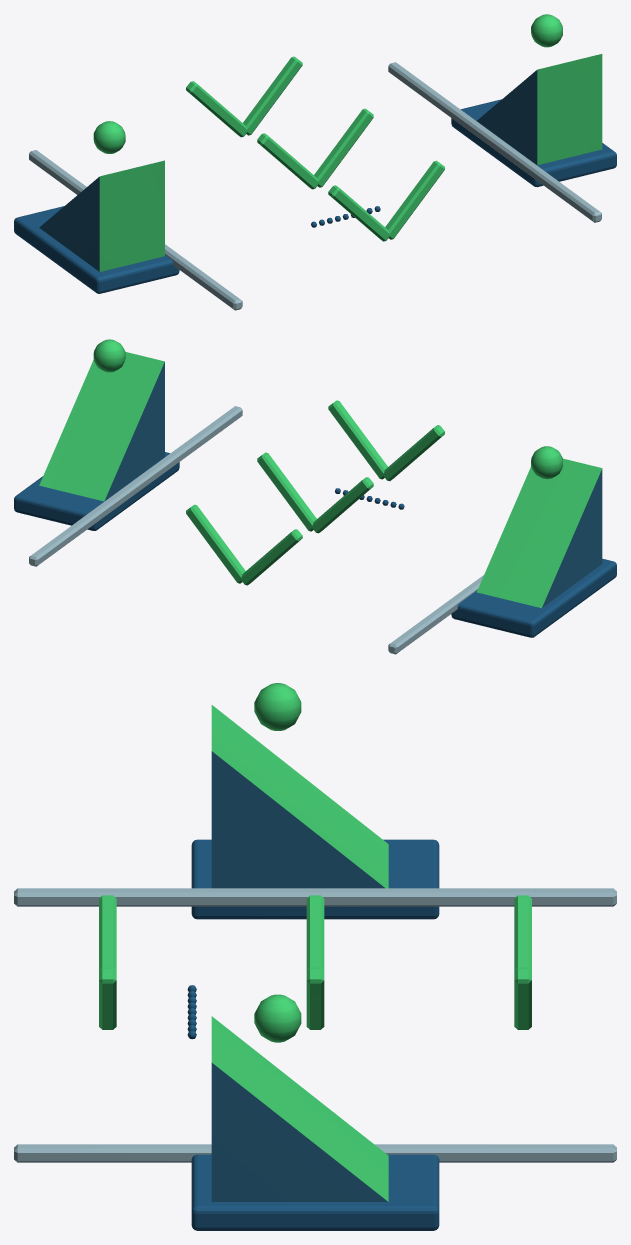
Rendered from glacier_boost_marker_v1.glb.
3 renders of one model, top to bottom at view 1: azimuth 30°, elevation 25°; view 2: azimuth 150°, elevation 25°; view 3: azimuth 270°, elevation 25°, orthographic. The views are drawn at different scales.
Parts seen in each view (by area): view 1: glacier_boost_marker_v1; view 2: glacier_boost_marker_v1; view 3: glacier_boost_marker_v1.
Part boxes in pixels (x1,y1,x2,y2): glacier_boost_marker_v1: (14, 14, 616, 310); glacier_boost_marker_v1: (14, 339, 616, 654); glacier_boost_marker_v1: (14, 683, 616, 1230).
Bounding box in the file's own units: 6.55 × 1.7 × 4.5.
